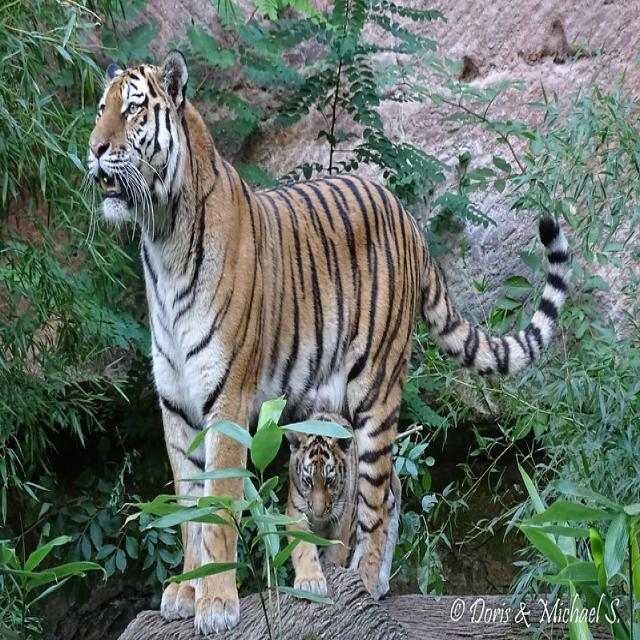Tiger: (71, 38, 571, 639), (268, 398, 372, 618)
